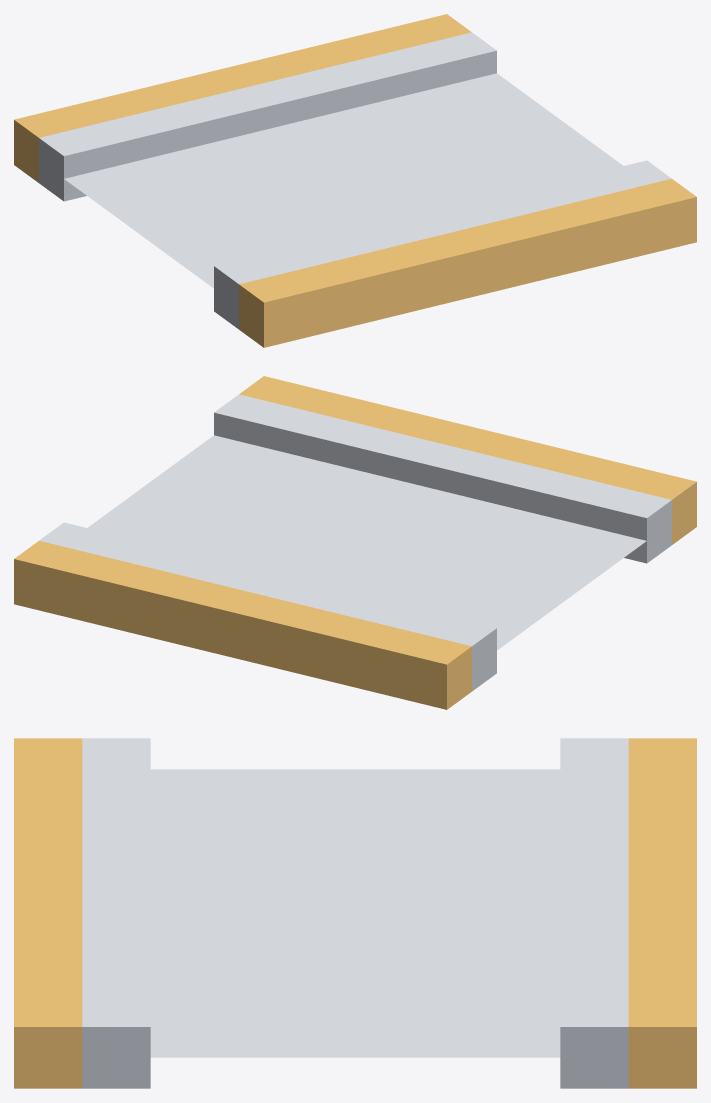
The model's file is platform_straight.glb.
The picture shows the model from 3 angles, top to bottom: view 1: azimuth 30°, elevation 25°; view 2: azimuth 150°, elevation 25°; view 3: azimuth 270°, elevation 25°; orthographic projection. The views are drawn at different scales.
Visible parts, largest first — view 1: platform_straight; view 2: platform_straight; view 3: platform_straight.
Part boxes in pixels (x1,y1,x2,y2): platform_straight: (14,14,696,347); platform_straight: (14,376,696,709); platform_straight: (14,738,696,1088).
Bounding box in the file's own units: 1 × 0.1 × 1.
1 material, 1 textured.
